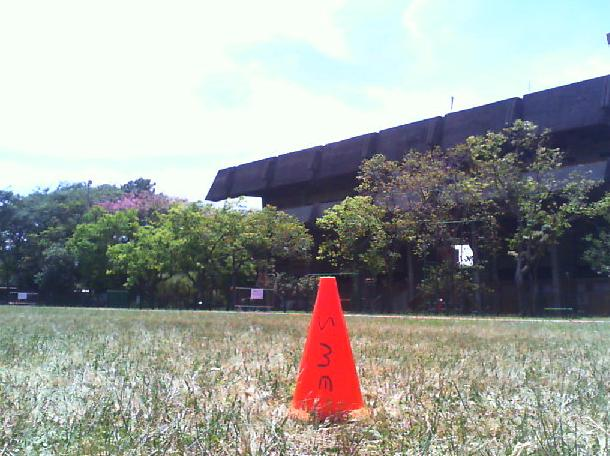0 cone: (289, 276, 371, 422)
